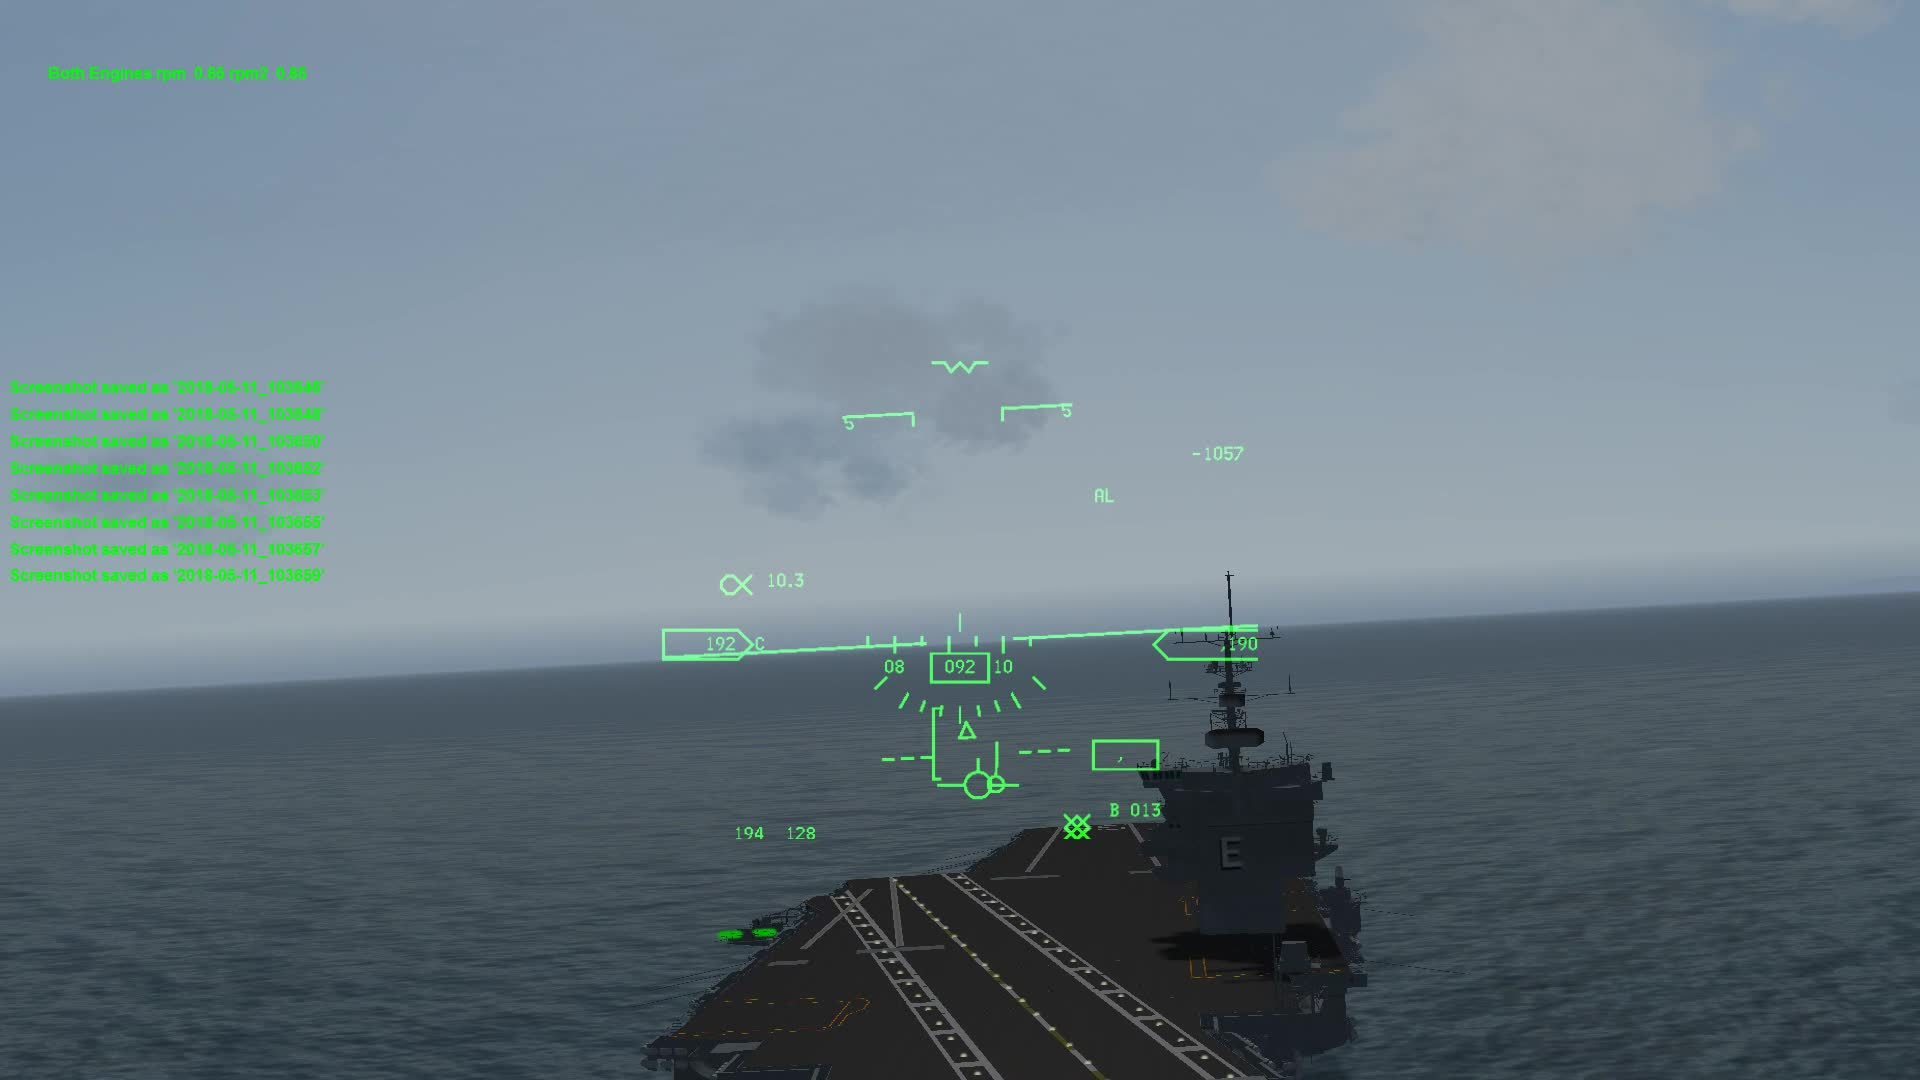speed vector: (932, 744, 1033, 808)
